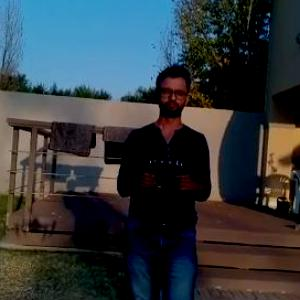follow: (112, 59, 216, 299)
